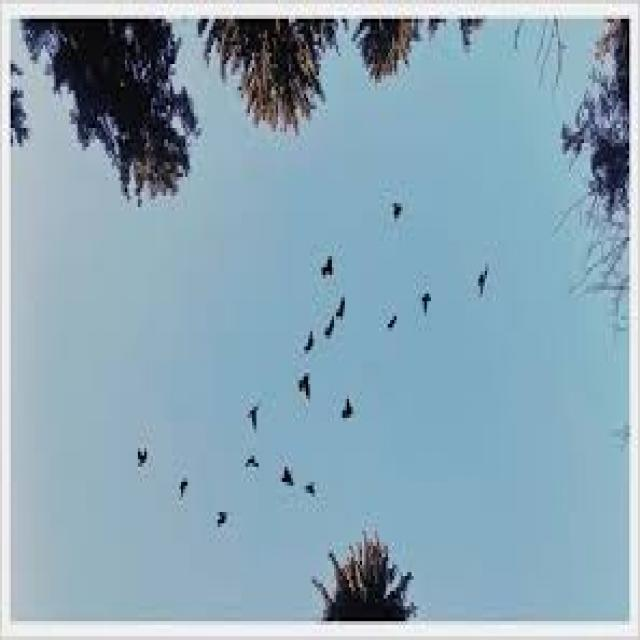bird: (414, 264, 437, 342), (380, 187, 413, 236), (302, 458, 326, 507), (384, 299, 404, 352), (295, 362, 319, 406), (241, 389, 265, 432), (216, 479, 234, 536), (240, 433, 262, 478), (318, 298, 338, 347), (278, 440, 295, 497), (473, 250, 490, 306), (130, 433, 156, 467), (168, 465, 194, 499), (317, 230, 332, 282), (300, 319, 316, 362), (341, 294, 354, 346), (345, 390, 360, 434)
